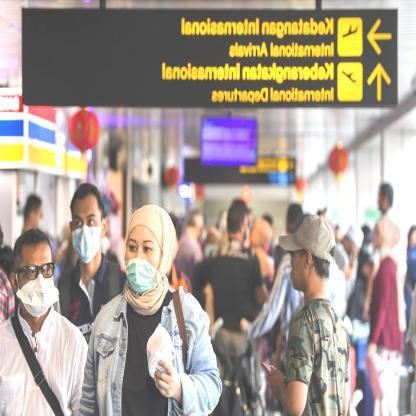with_mask: (13, 224, 59, 322), (123, 208, 173, 297), (71, 182, 109, 267)
without_mask: (288, 212, 337, 299)
